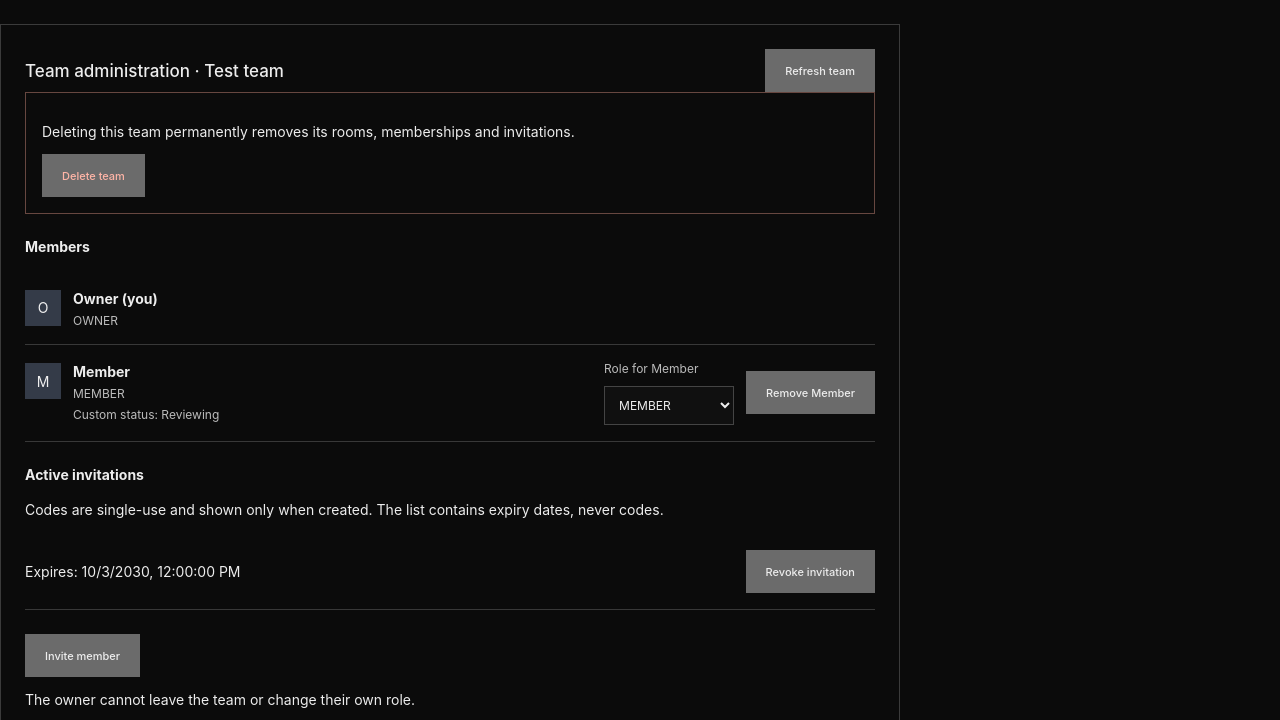
Test: refreshes changed access and hides stale member controls after permission failure
Expected: the button "Refresh team" is enabled, [765, 49, 875, 92]
Select "ADMIN" in the dropdown labelled "Role for Member": [669, 405] box [604, 386, 734, 425]
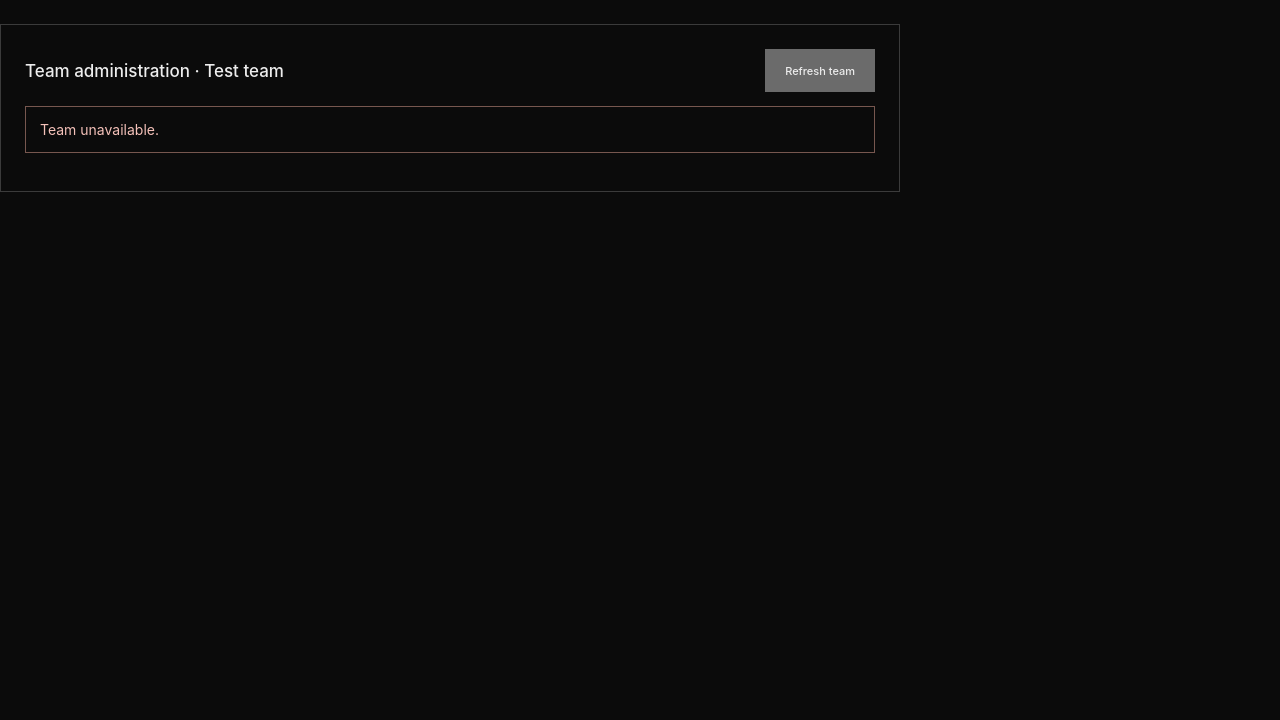
Expected: the text "Team unavailable." is shown, [25, 106, 875, 153]
Expected: the button "Invite member" is gone
Expected: the label "Role for Member" is gone
